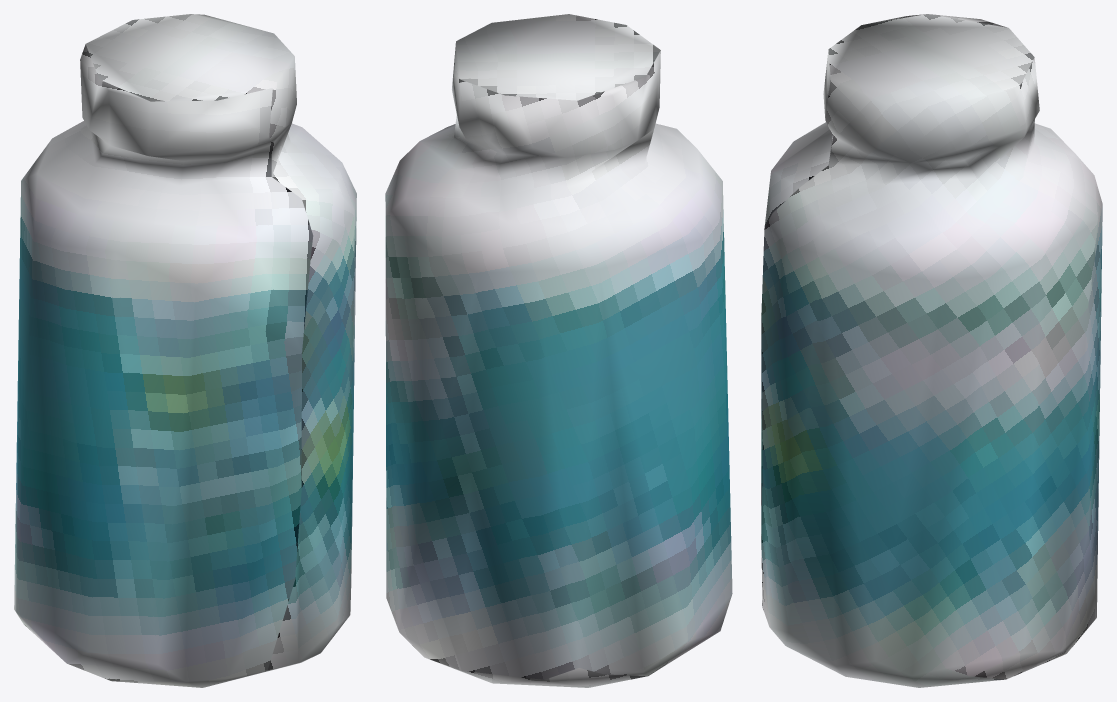
Rendered from Saccharomyces_Boulardii_MOS_Value_Size-low.glb.
3 renders of one model, left to right at view 1: azimuth 30°, elevation 25°; view 2: azimuth 150°, elevation 25°; view 3: azimuth 270°, elevation 25°, orthographic.
Parts seen in each view (by area): view 1: Saccharomyces_Boulardii_MOS_Value_Size; view 2: Saccharomyces_Boulardii_MOS_Value_Size; view 3: Saccharomyces_Boulardii_MOS_Value_Size.
Boxes of the visible parts, box(x1,y1,x2,y2) form: Saccharomyces_Boulardii_MOS_Value_Size: box(14, 14, 356, 687); Saccharomyces_Boulardii_MOS_Value_Size: box(385, 14, 732, 687); Saccharomyces_Boulardii_MOS_Value_Size: box(761, 14, 1102, 687).
Size of the model in its own units: 0.0737 by 0.1348 by 0.0729.
1 material, 1 textured.
